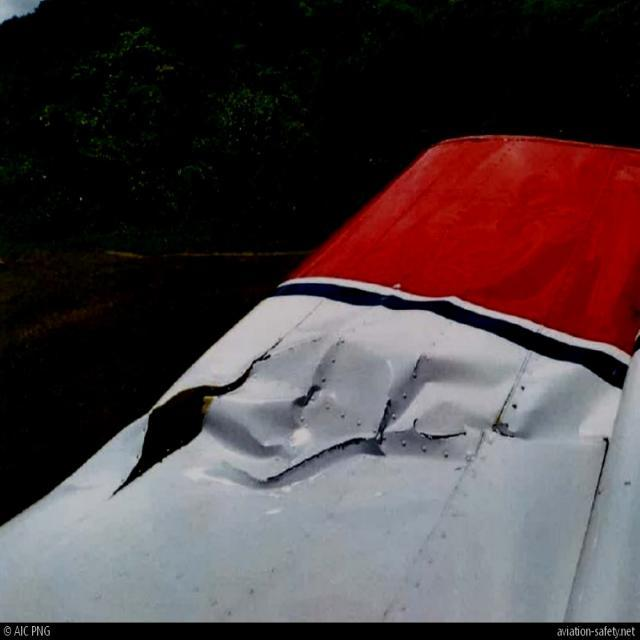crack: (274, 442, 340, 481), (414, 419, 455, 452), (378, 391, 401, 441), (411, 354, 431, 381)
